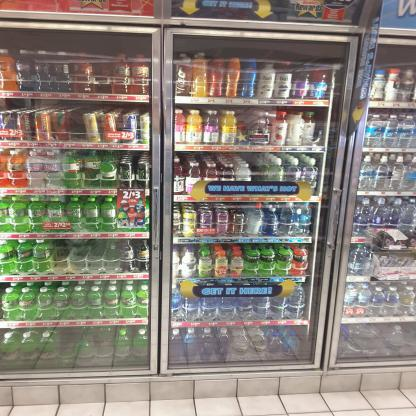Void: (51, 241, 120, 271), (72, 110, 84, 140)
